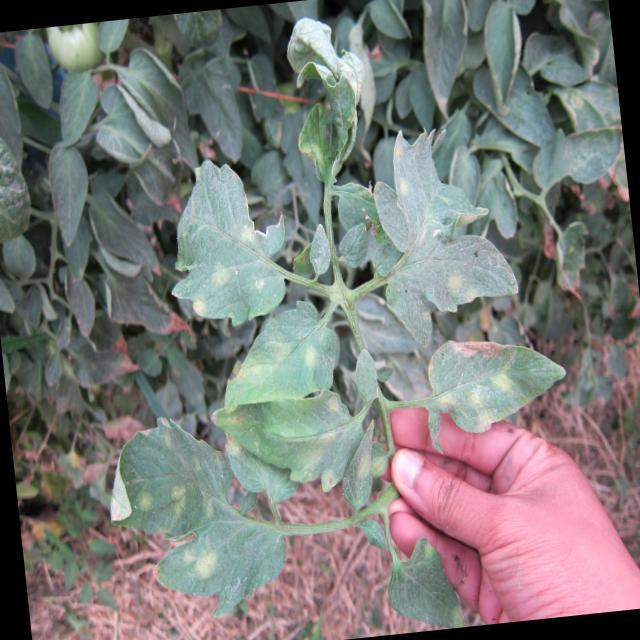Mosaic Virus: (244, 387, 356, 495), (185, 215, 275, 332), (225, 318, 332, 399), (182, 219, 270, 316), (422, 355, 528, 431), (163, 513, 248, 606), (373, 127, 442, 236), (405, 539, 467, 632), (401, 255, 485, 315), (119, 458, 198, 521)
